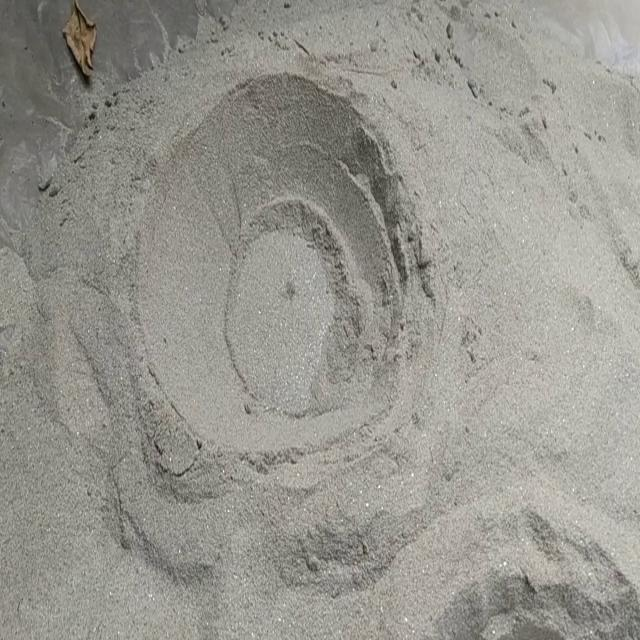C20: (139, 76, 435, 462)
